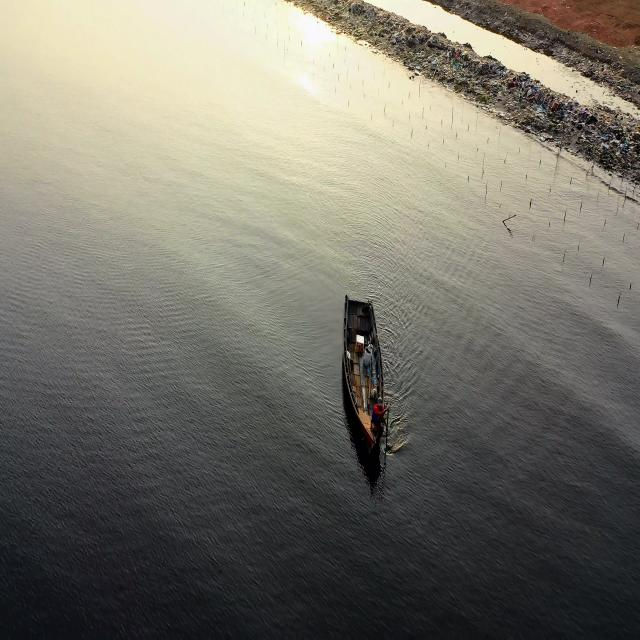ship: (338, 291, 394, 468)
